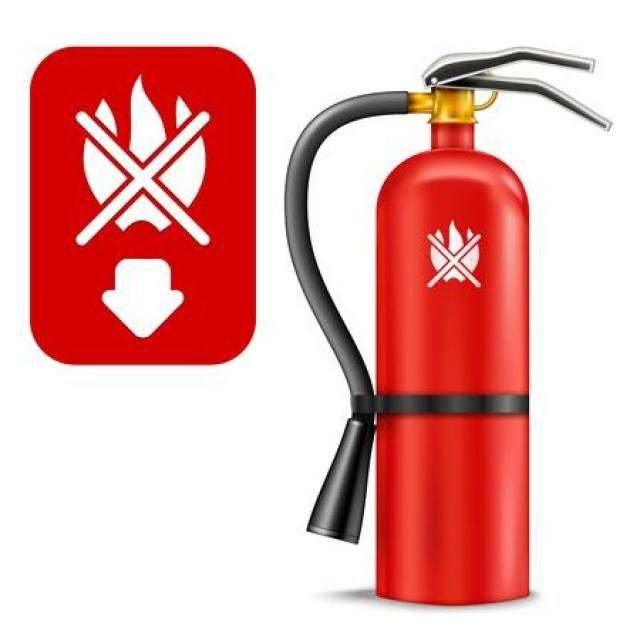fire_extinguisher: (276, 39, 613, 612)
